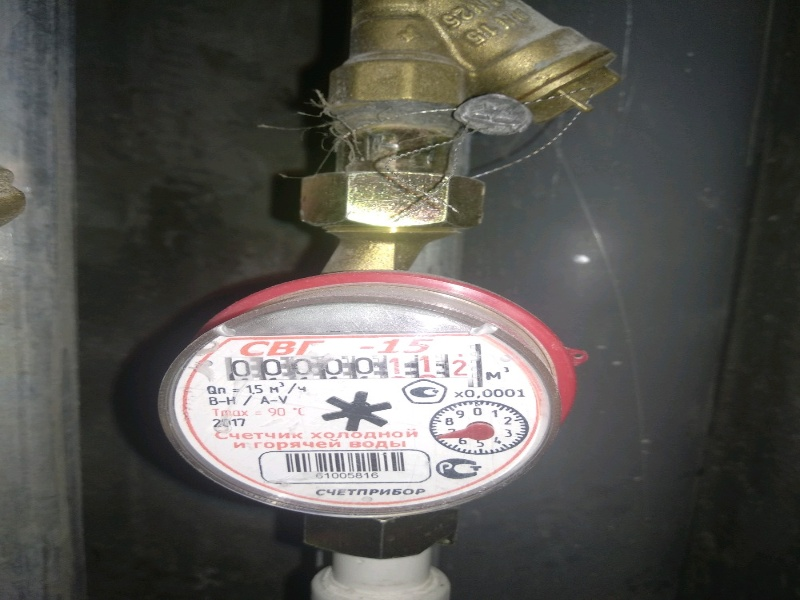meter: (215, 352, 491, 377)
